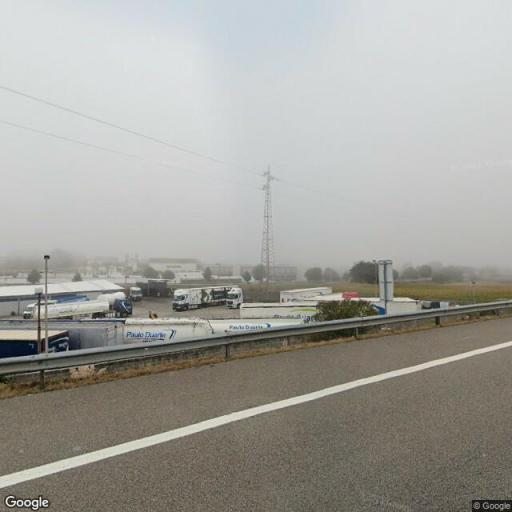ss_4: (257, 166, 282, 290)
